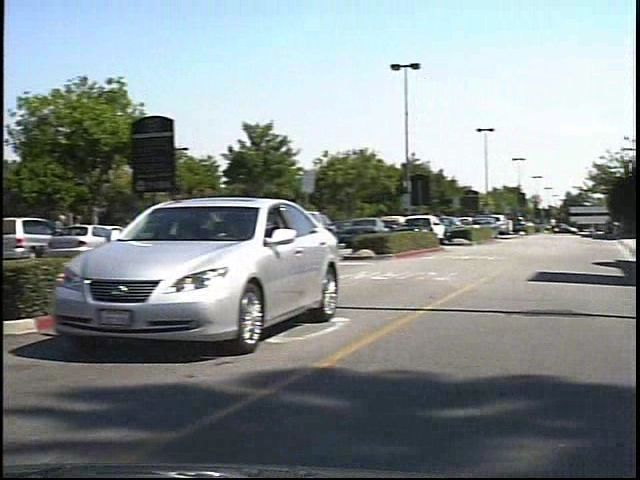car: (61, 200, 355, 351)
